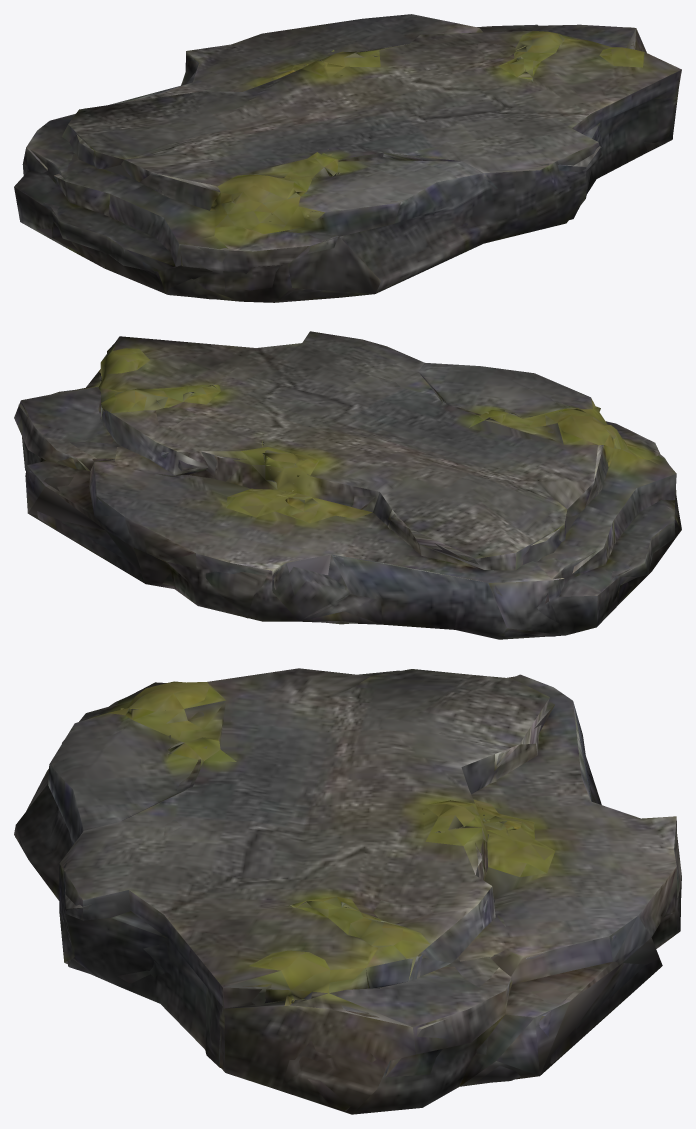
File: rock-2.glb
3 views of the same model, one above another, from view 1: azimuth 30°, elevation 25°; view 2: azimuth 150°, elevation 25°; view 3: azimuth 270°, elevation 25° (orthographic). The views are drawn at different scales.
Visible parts, largest first — view 1: terrain-rock-2; view 2: terrain-rock-2; view 3: terrain-rock-2.
Boxes of the visible parts, x1,y1,x2,y2 form: terrain-rock-2: [14, 14, 681, 302]; terrain-rock-2: [14, 331, 681, 639]; terrain-rock-2: [14, 668, 681, 1114].
Size of the model in its own units: 0.3001 by 0.0473 by 0.2149.
1 material, 1 textured.
